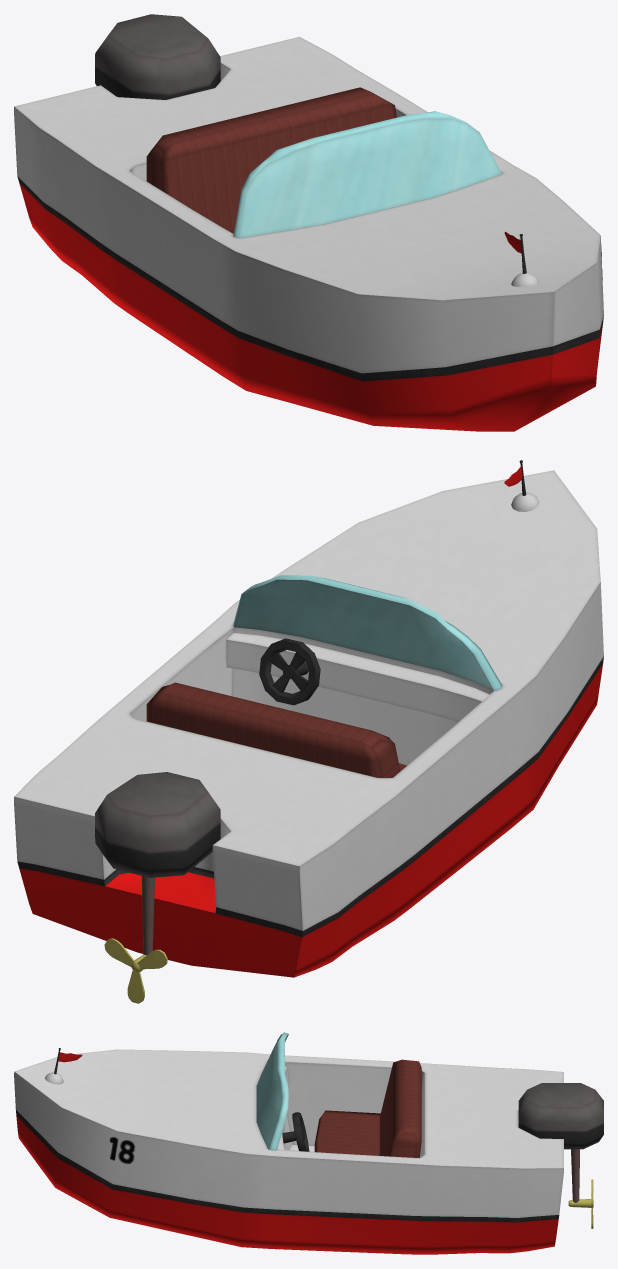
File: botemovil.obj
The picture shows the model from 3 angles, top to bottom: view 1: azimuth 30°, elevation 25°; view 2: azimuth 150°, elevation 25°; view 3: azimuth 270°, elevation 25°; orthographic projection. The views are drawn at different scales.
Visible parts, largest first — view 1: pCylinder10; view 2: pCylinder10; view 3: pCylinder10.
Boxes of the visible parts, x1,y1,x2,y2 form: pCylinder10: (14,14,603,431); pCylinder10: (14,460,603,1003); pCylinder10: (14,1032,603,1254).
Size of the model in its own units: 18.53 by 15.31 by 45.5.
